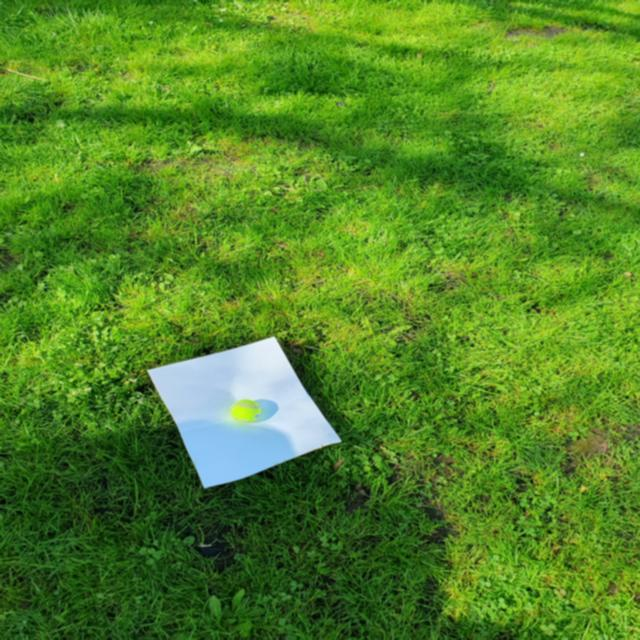green: (230, 399, 260, 424)
